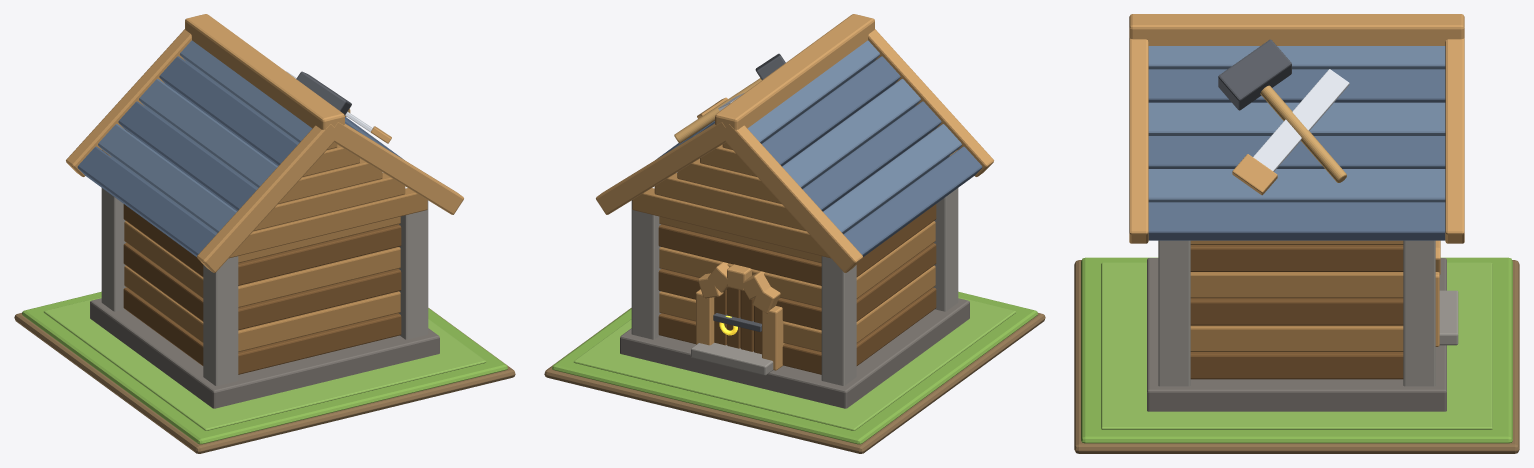
File: builder_barracks_lv4.glb
3 renders of one model, left to right at view 1: azimuth 30°, elevation 25°; view 2: azimuth 150°, elevation 25°; view 3: azimuth 270°, elevation 25°, orthographic. The views are drawn at different scales.
Parts seen in each view (by area): view 1: Base_Inner, BB_Foundation, Base_Grass, WallPlank_2, WallPlank_0, WallPlank_1, WallPlank_3, RidgeBeam, Base_Dirt, WallPlank_4, Bargeboard_-1_-1, RoofSlope_-1_5 (+16 smaller); view 2: Base_Inner, BB_Foundation, Base_Grass, RidgeBeam, Base_Dirt, WallPlank_4, Bargeboard_1_-1, RoofSlope_-1_5, RoofSlope_-1_1, RoofSlope_-1_2, RoofSlope_-1_3, RoofSlope_-1_4 (+22 smaller); view 3: Base_Inner, Base_Grass, RoofSlope_1_5, BB_Foundation, RidgeBeam, RoofSlope_1_4, RoofSlope_1_2, RoofSlope_1_3, Base_Dirt, RoofSlope_1_1, RoofSlope_1_0, WallPlank_2 (+14 smaller).
Part boxes in pixels (x1,y1,x2,y2): Base_Inner: (44, 297, 486, 430); BB_Foundation: (90, 298, 439, 408); Base_Grass: (22, 291, 507, 444); WallPlank_2: (123, 243, 401, 330); WallPlank_0: (123, 287, 401, 374); WallPlank_1: (124, 265, 400, 351); WallPlank_3: (124, 221, 400, 307); RidgeBeam: (185, 14, 344, 129); Base_Dirt: (14, 308, 515, 453); WallPlank_4: (123, 204, 401, 285); Bargeboard_-1_-1: (197, 124, 339, 272); RoofSlope_-1_5: (77, 146, 216, 256); Base_Inner: (573, 297, 1015, 430); BB_Foundation: (620, 298, 969, 408); Base_Grass: (552, 291, 1037, 444); RidgeBeam: (715, 14, 874, 129); Base_Dirt: (544, 308, 1045, 453); WallPlank_4: (658, 204, 936, 285); Bargeboard_1_-1: (720, 124, 862, 272); RoofSlope_-1_5: (843, 146, 982, 256); RoofSlope_-1_1: (762, 56, 900, 166); RoofSlope_-1_2: (782, 78, 920, 188); RoofSlope_-1_3: (802, 101, 941, 211); RoofSlope_-1_4: (823, 124, 961, 233); Base_Inner: (1101, 262, 1492, 429); Base_Grass: (1081, 257, 1512, 443); RoofSlope_1_5: (1148, 202, 1445, 240); BB_Foundation: (1147, 258, 1446, 411); RidgeBeam: (1129, 14, 1464, 45); RoofSlope_1_4: (1148, 169, 1445, 202); RoofSlope_1_2: (1148, 102, 1445, 135); RoofSlope_1_3: (1148, 136, 1445, 168); Base_Dirt: (1074, 260, 1519, 453); RoofSlope_1_1: (1148, 69, 1445, 102); RoofSlope_1_0: (1148, 46, 1445, 69); WallPlank_2: (1190, 298, 1403, 325).
Bounding box in the file's own units: 2.76 × 2.34 × 2.76.
